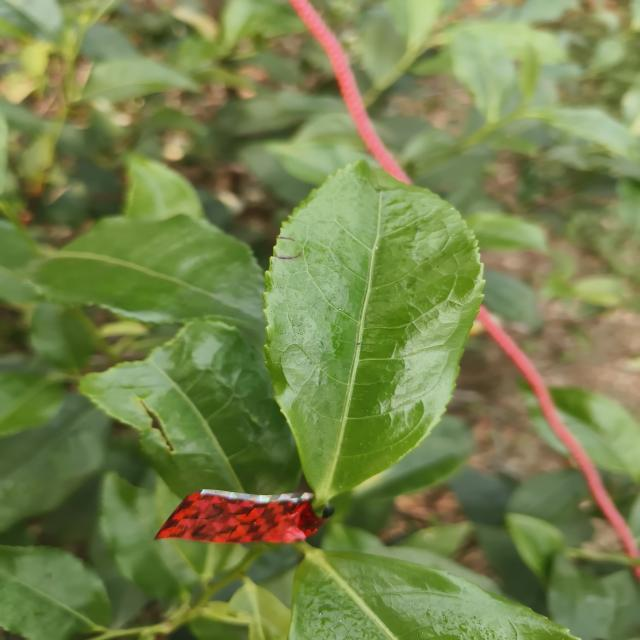Leaf: (264, 161, 483, 505), (80, 319, 300, 495), (29, 215, 264, 339), (289, 550, 573, 640), (0, 393, 111, 531), (99, 473, 198, 599), (0, 546, 110, 640), (353, 415, 474, 500), (549, 387, 640, 484), (450, 27, 515, 124), (547, 555, 614, 640), (526, 107, 634, 157), (123, 155, 204, 220), (83, 57, 197, 102), (266, 140, 370, 185), (31, 302, 97, 372), (0, 372, 65, 436), (505, 513, 564, 581), (483, 268, 542, 329), (466, 212, 547, 252), (522, 387, 565, 453), (81, 23, 139, 61)
